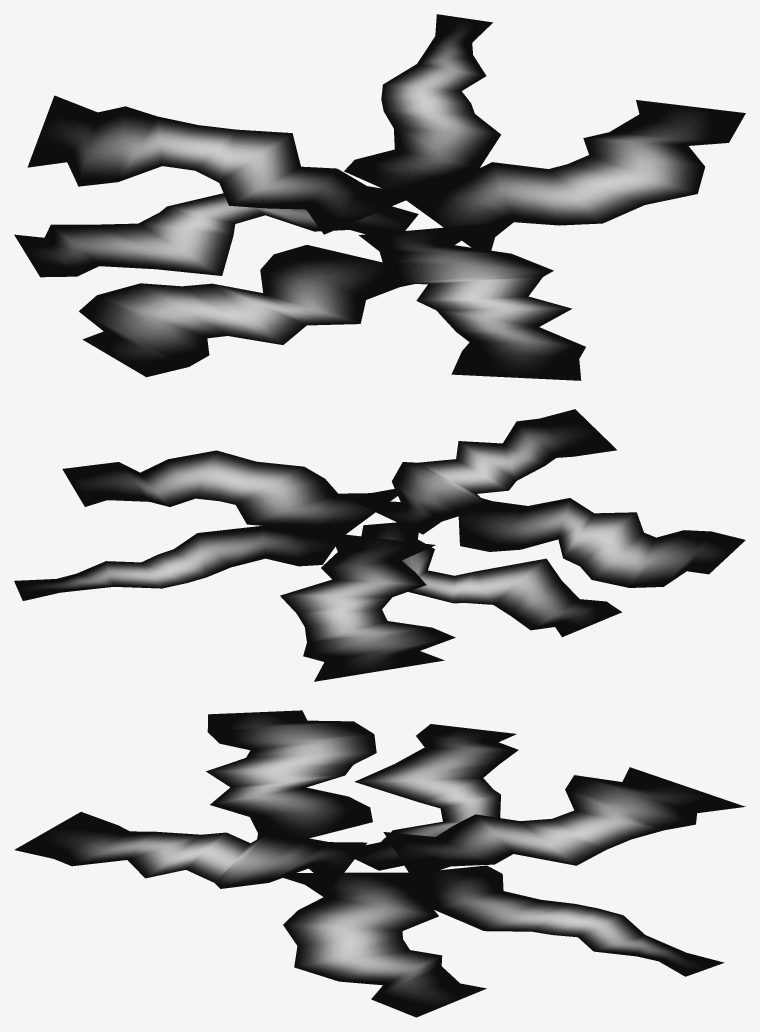
The model's file is vfx_kurp_0634.dae.
3 views of the same model, one above another, from view 1: azimuth 30°, elevation 25°; view 2: azimuth 150°, elevation 25°; view 3: azimuth 270°, elevation 25° (orthographic). The views are drawn at different scales.
Parts seen in each view (by area): view 1: vfx_kurp_0634; view 2: vfx_kurp_0634; view 3: vfx_kurp_0634.
Boxes of the visible parts, x1,y1,x2,y2 form: vfx_kurp_0634: (14, 14, 745, 380); vfx_kurp_0634: (14, 409, 745, 681); vfx_kurp_0634: (14, 710, 745, 1017).
Bounding box in the file's own units: 14.49 × 14.59 × 0.00214.
Materials: 1 (1 with a texture image).
